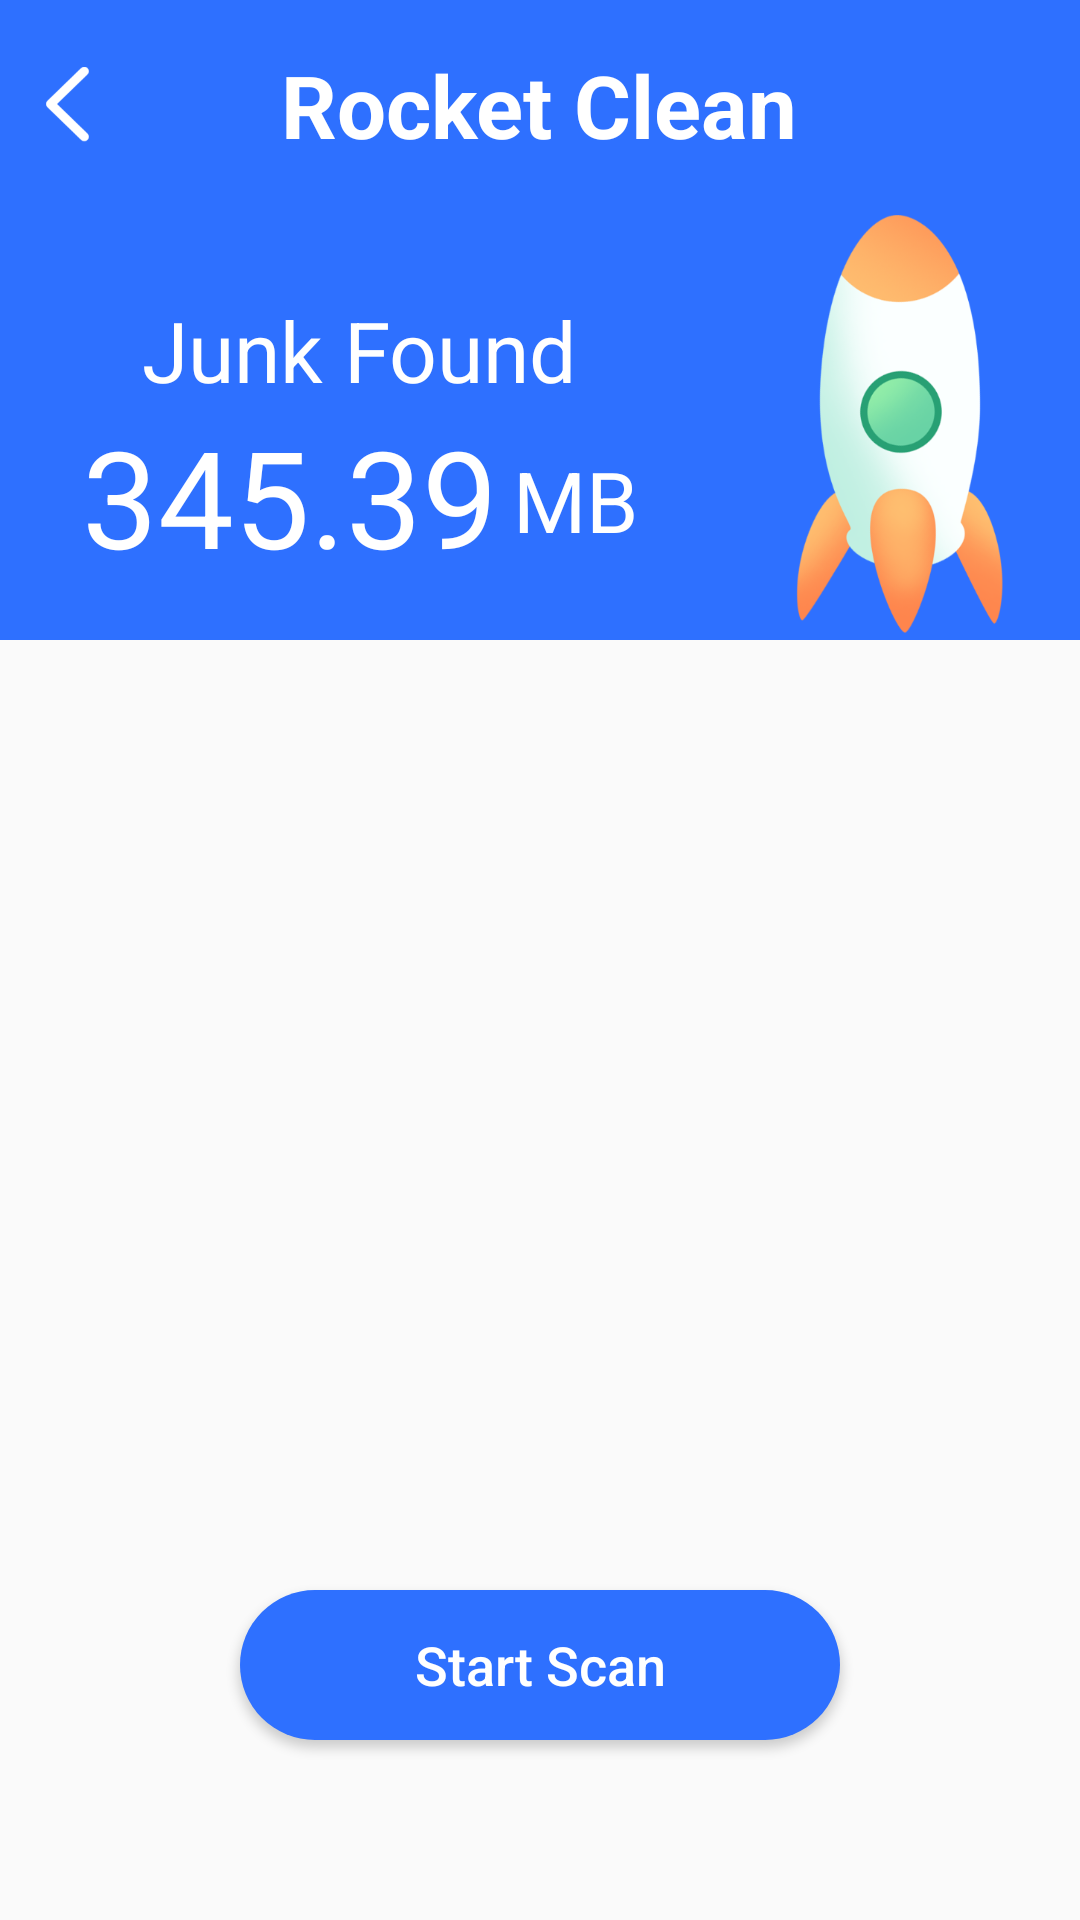

Screen size 1080 × 1920. Icon name, then its center in pixels as (x=x, y=y):
back: (x=67, y=104)
